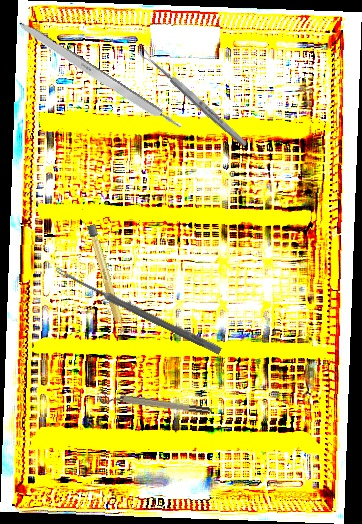Fixation Ring: (97, 388, 212, 421)
Scalpel Handle: (14, 18, 184, 135), (86, 223, 127, 338)
Surgical Spoon: (53, 266, 223, 355), (137, 47, 250, 149)
